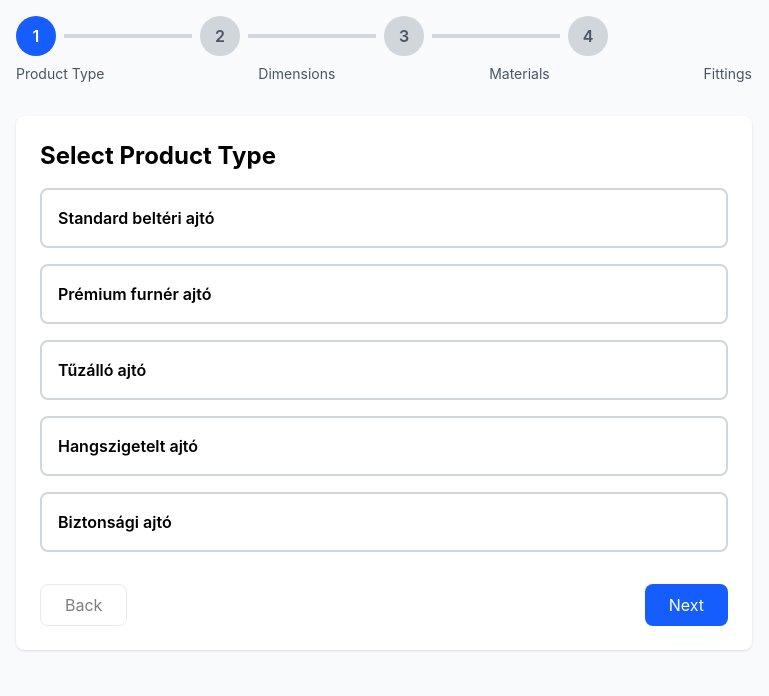
Test: ProductConfiguratorWizard › validates product type selection before proceeding to step 2
The width and height of the screenshot is (769, 696).
Click the button "Next" at (686, 605), box x1=645 y1=584 x2=728 y2=626
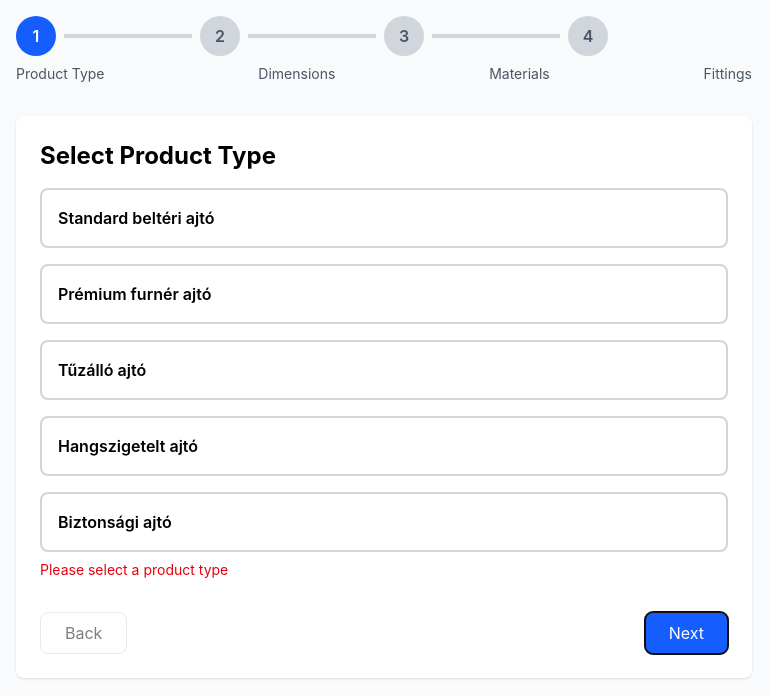
expect the text "Please select a product type" is shown: met, box x1=40 y1=561 x2=228 y2=578
